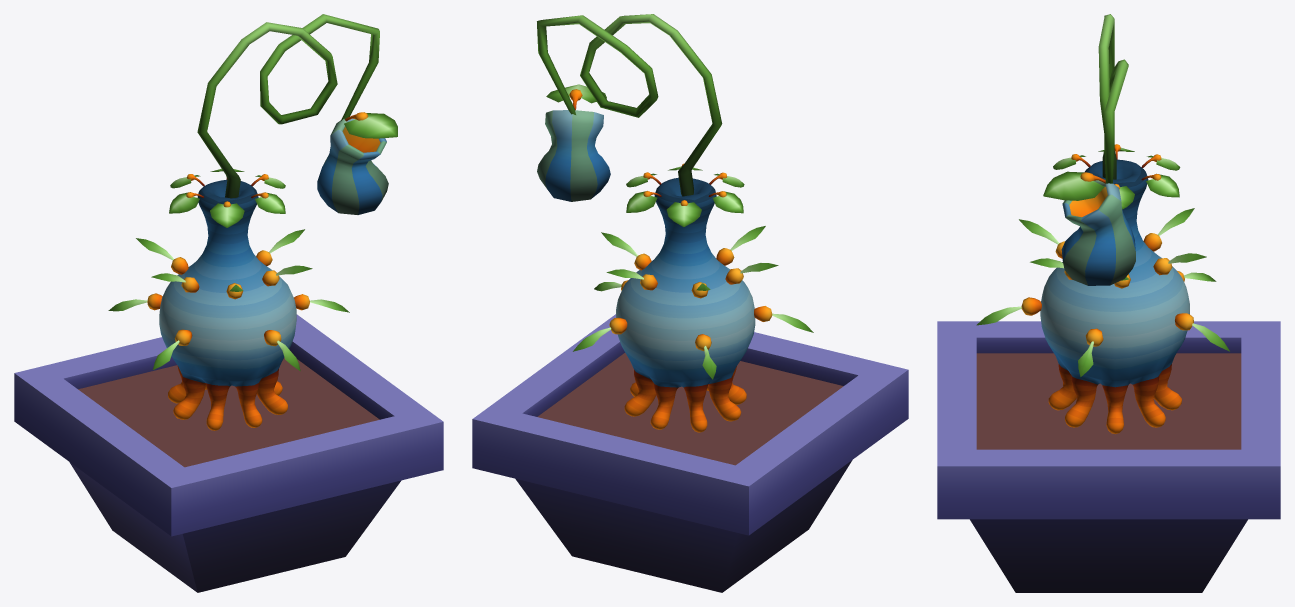
File: wp_wPot_12.fbx
The picture shows the model from 3 angles, left to right: view 1: azimuth 30°, elevation 25°; view 2: azimuth 150°, elevation 25°; view 3: azimuth 270°, elevation 25°; orthographic projection. The views are drawn at different scales.
Visible parts, largest first — view 1: w_pl12; view 2: w_pl12; view 3: w_pl12.
Part boxes in pixels (bbox=[...]): w_pl12: bbox=[14, 14, 443, 592]; w_pl12: bbox=[472, 14, 908, 592]; w_pl12: bbox=[937, 14, 1280, 592].
Size of the model in its own units: 116 by 198 by 110.
